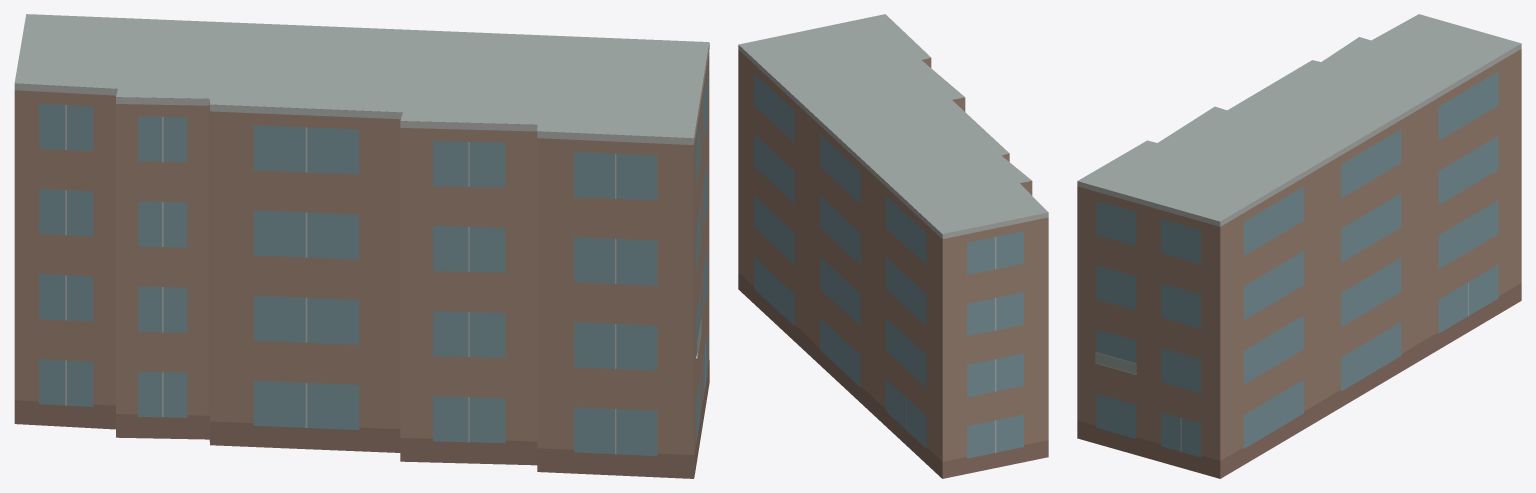
The model's file is survey-upis-32684307.glb.
3 renders of one model, left to right at view 1: azimuth 30°, elevation 25°; view 2: azimuth 150°, elevation 25°; view 3: azimuth 270°, elevation 25°, orthographic. The views are drawn at different scales.
Parts seen in each view (by area): view 1: survey-upis-32684307.tmp; view 2: survey-upis-32684307.tmp; view 3: survey-upis-32684307.tmp.
Boxes of the visible parts, box(x1,y1,x2,y2) form: survey-upis-32684307.tmp: box(14, 14, 709, 478); survey-upis-32684307.tmp: box(738, 14, 1048, 478); survey-upis-32684307.tmp: box(1077, 14, 1521, 478).
Size of the model in its own units: 20.78 by 12 by 18.79.
